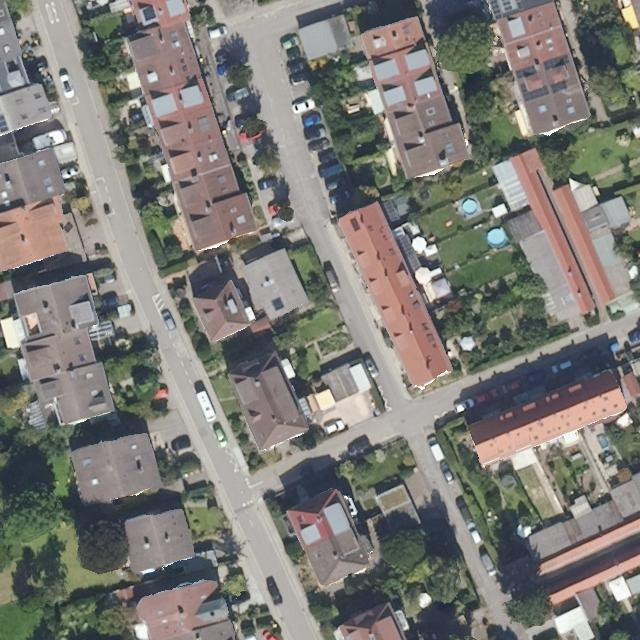PV: (513, 64, 551, 104), (543, 53, 571, 72), (140, 4, 157, 23), (549, 79, 569, 95), (270, 295, 287, 312), (0, 113, 10, 135)
